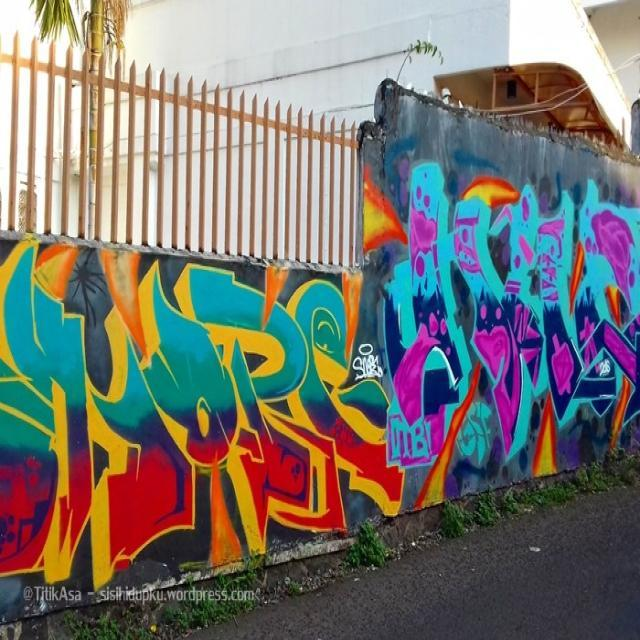-: (0, 243, 404, 593), (384, 162, 640, 470)
